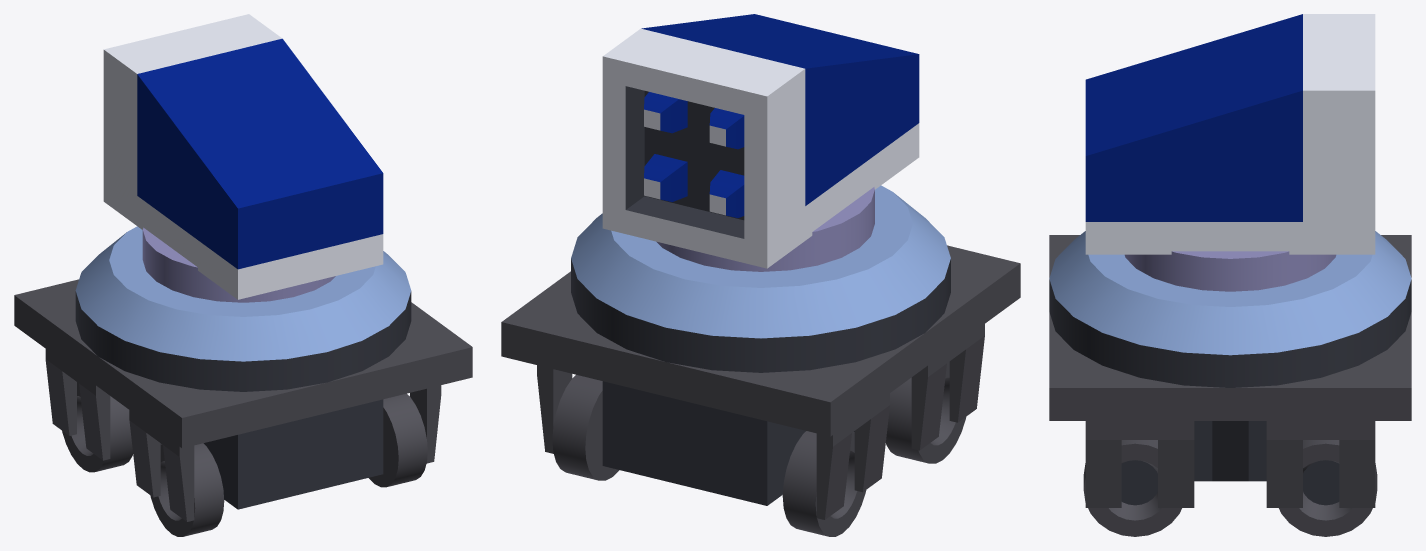
The model's file is turret-small.glb.
The picture shows the model from 3 angles, left to right: view 1: azimuth 30°, elevation 25°; view 2: azimuth 150°, elevation 25°; view 3: azimuth 270°, elevation 25°; orthographic projection. The views are drawn at different scales.
Visible parts, largest first — view 1: weapon_turret, bogie_clamp, tank_turretRing, wheel_small (×2); view 2: weapon_turret, bogie_clamp, tank_turretRing, wheel_small (×2); view 3: weapon_turret, tank_turretRing, bogie_clamp, wheel_small (×2).
Part boxes in pixels (<box>): weapon_turret: <box>103,14,383,299</box>; bogie_clamp: <box>14,279,472,521</box>; tank_turretRing: <box>75,226,411,391</box>; wheel_small (×2): <box>62,382,427,536</box>; weapon_turret: <box>602,14,919,268</box>; bogie_clamp: <box>501,245,1020,519</box>; tank_turretRing: <box>571,185,950,372</box>; wheel_small (×2): <box>552,361,966,536</box>; weapon_turret: <box>1085,14,1375,254</box>; tank_turretRing: <box>1049,231,1411,387</box>; bogie_clamp: <box>1049,235,1411,507</box>; wheel_small (×2): <box>1083,440,1377,536</box>.
Bounding box in the file's own units: 0.38 × 0.49 × 0.38.
